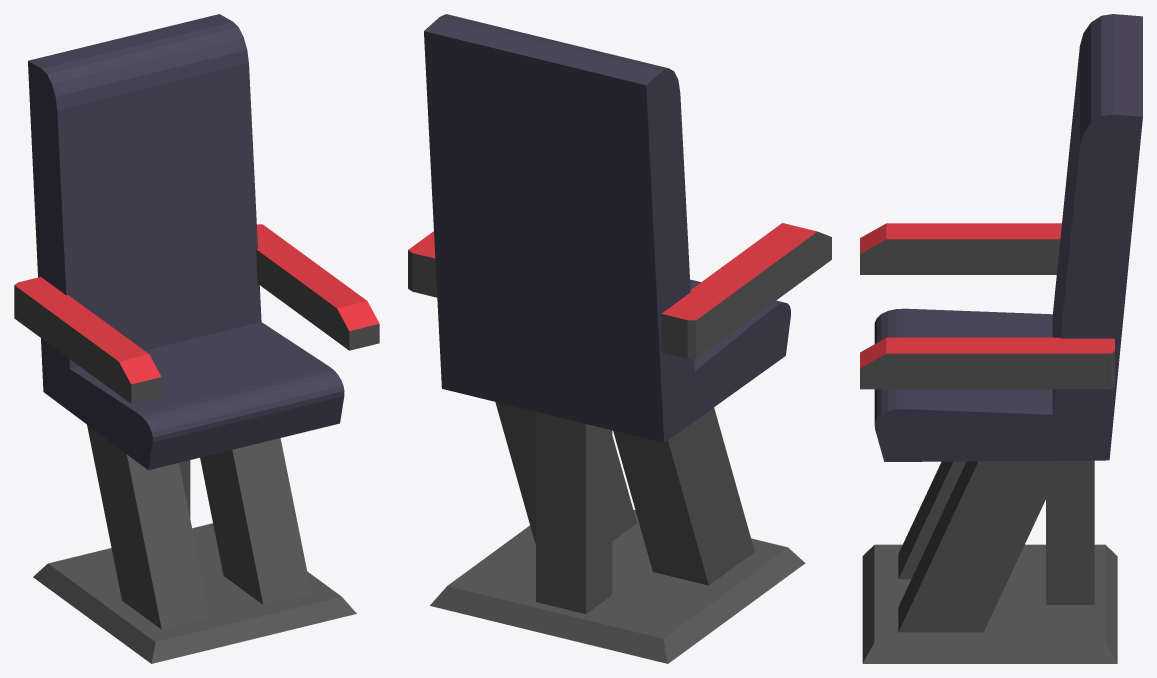
Rendered from Tågstol.glb.
The picture shows the model from 3 angles, left to right: view 1: azimuth 30°, elevation 25°; view 2: azimuth 150°, elevation 25°; view 3: azimuth 270°, elevation 25°; orthographic projection. The views are drawn at different scales.
Parts seen in each view (by area): view 1: Cube, Cube.004, Cube.003, Cube.005, Cube.001; view 2: Cube, Cube.003, Cube.005, Cube.002, Cube.004, Cube.001; view 3: Cube, Cube.004, Cube.003, Cube.001, Cube.002, Cube.005.
Part boxes in pixels (x1,y1,x2,y2): Cube: (28, 14, 344, 470); Cube.004: (14, 224, 379, 403); Cube.003: (33, 523, 356, 663); Cube.005: (87, 425, 209, 629); Cube.001: (200, 438, 311, 604); Cube: (424, 14, 790, 442); Cube.003: (430, 509, 805, 663); Cube.005: (613, 407, 754, 585); Cube.002: (536, 412, 612, 613); Cube.004: (408, 223, 831, 358); Cube.001: (495, 402, 636, 543); Cube: (874, 14, 1142, 461); Cube.004: (860, 223, 1114, 389); Cube.003: (862, 544, 1117, 663); Cube.001: (898, 460, 1063, 632); Cube.002: (1046, 460, 1094, 604); Cube.005: (898, 461, 965, 579).
Size of the model in its own units: 2.42 by 4.72 by 2.22.
